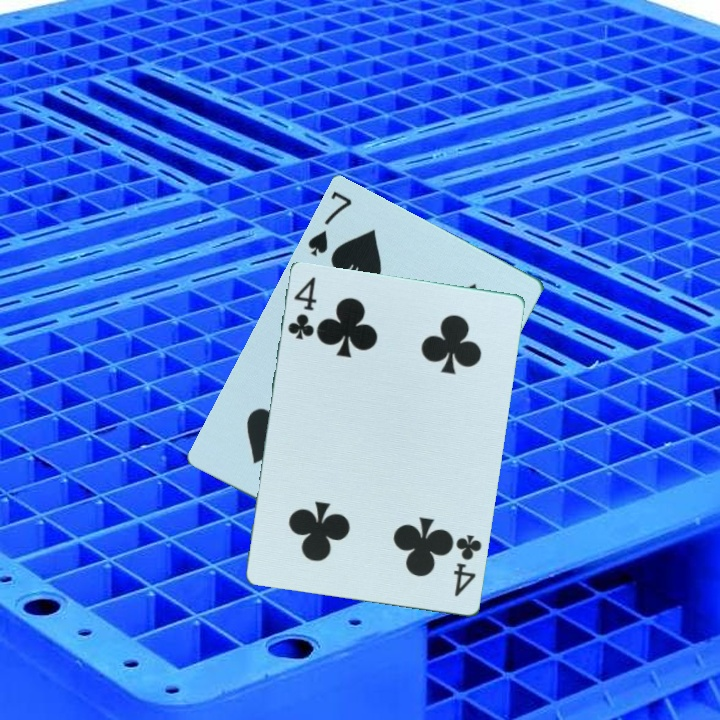4c: (285, 273, 320, 343), (450, 531, 485, 600)
7s: (304, 188, 355, 261)
